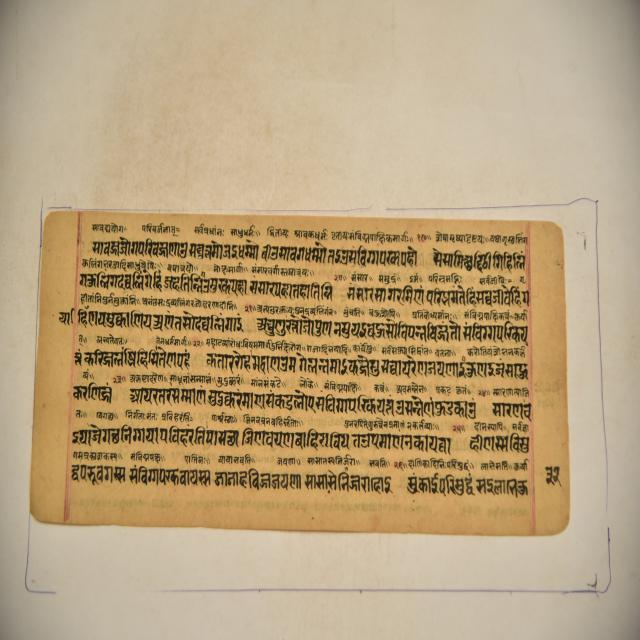text_paragraph: (27, 206, 569, 542)
